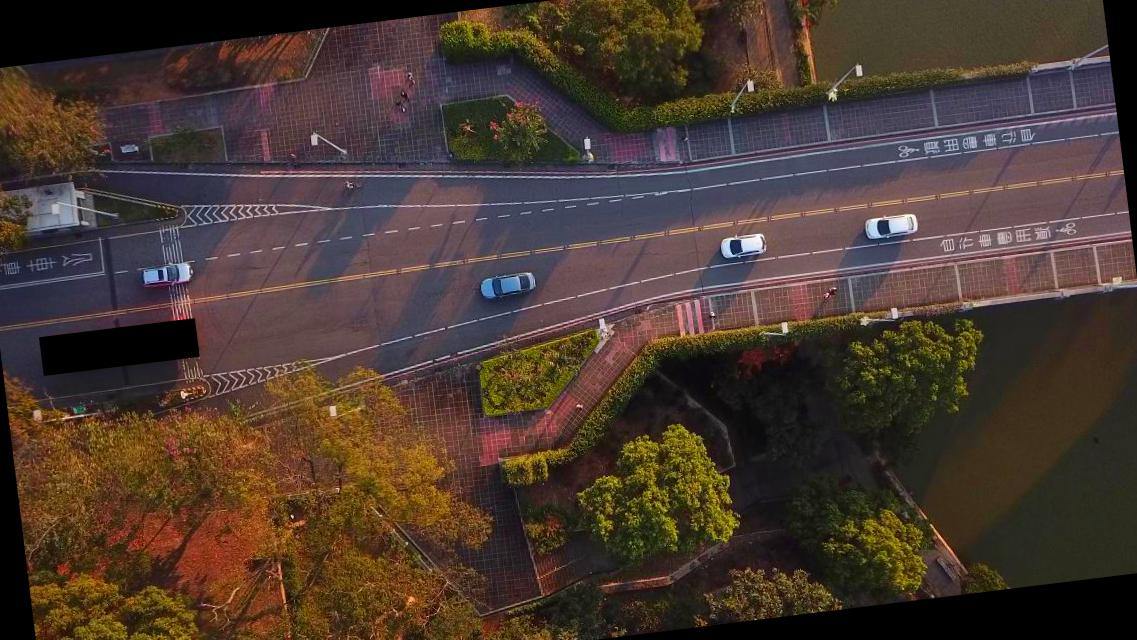vehicle: (478, 270, 537, 300), (862, 210, 918, 240), (139, 258, 194, 288), (718, 232, 766, 260)
